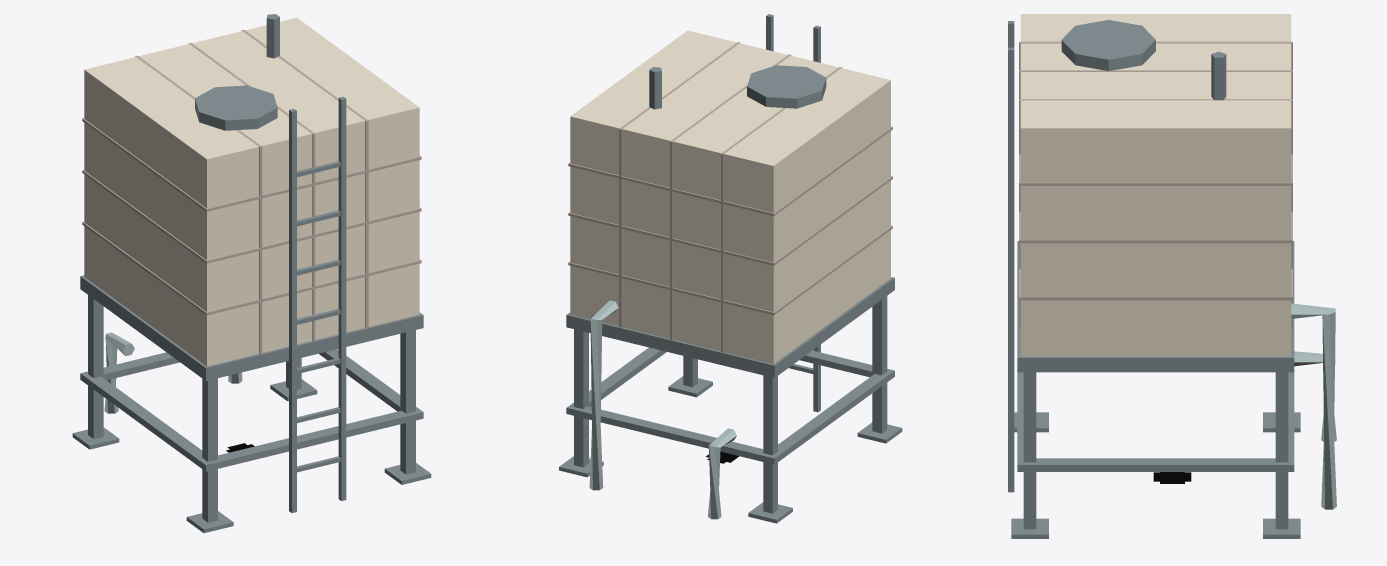
Rendered from tb_rooftop_water_tank_01.fbx.
The picture shows the model from 3 angles, left to right: view 1: azimuth 30°, elevation 25°; view 2: azimuth 150°, elevation 25°; view 3: azimuth 270°, elevation 25°; orthographic projection. The views are drawn at different scales.
Visible parts, largest first — view 1: tb_rooftop_water_tank_01; view 2: tb_rooftop_water_tank_01; view 3: tb_rooftop_water_tank_01.
Part boxes in pixels (x1,y1,x2,y2): tb_rooftop_water_tank_01: (72,14,431,533); tb_rooftop_water_tank_01: (559,14,902,523); tb_rooftop_water_tank_01: (1008,14,1336,538).
Size of what is drawn, in the model's own units: 2.25 by 3.15 by 2.55.
Materials: 2 (1 with a texture image).
